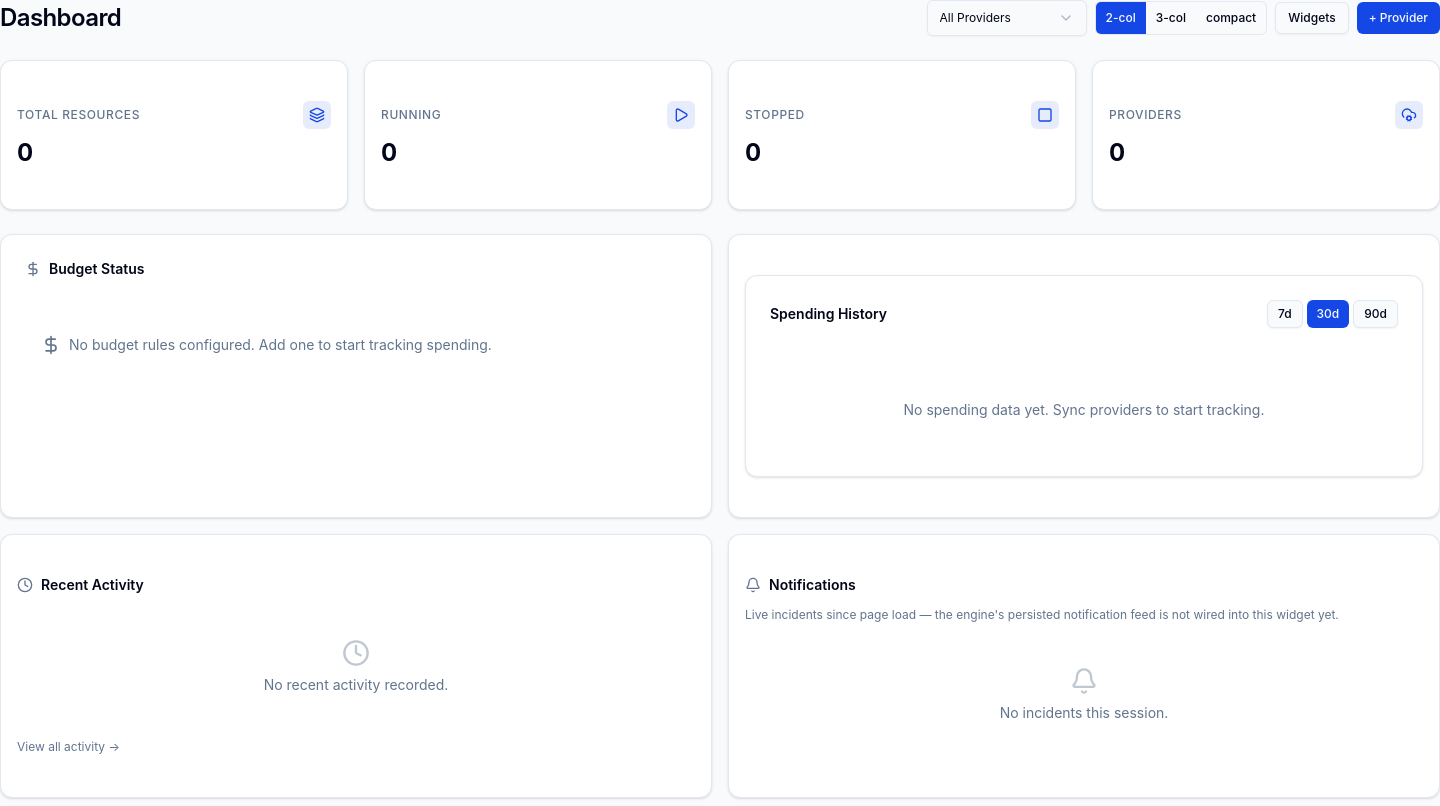
Test: DashboardPage › toggling a widget hides its card and saves preferences
Expected: the text "Budget Status" is shown, [25,260,144,277]
Click the button "Widgets": (1312, 18) [1275,2,1349,34]
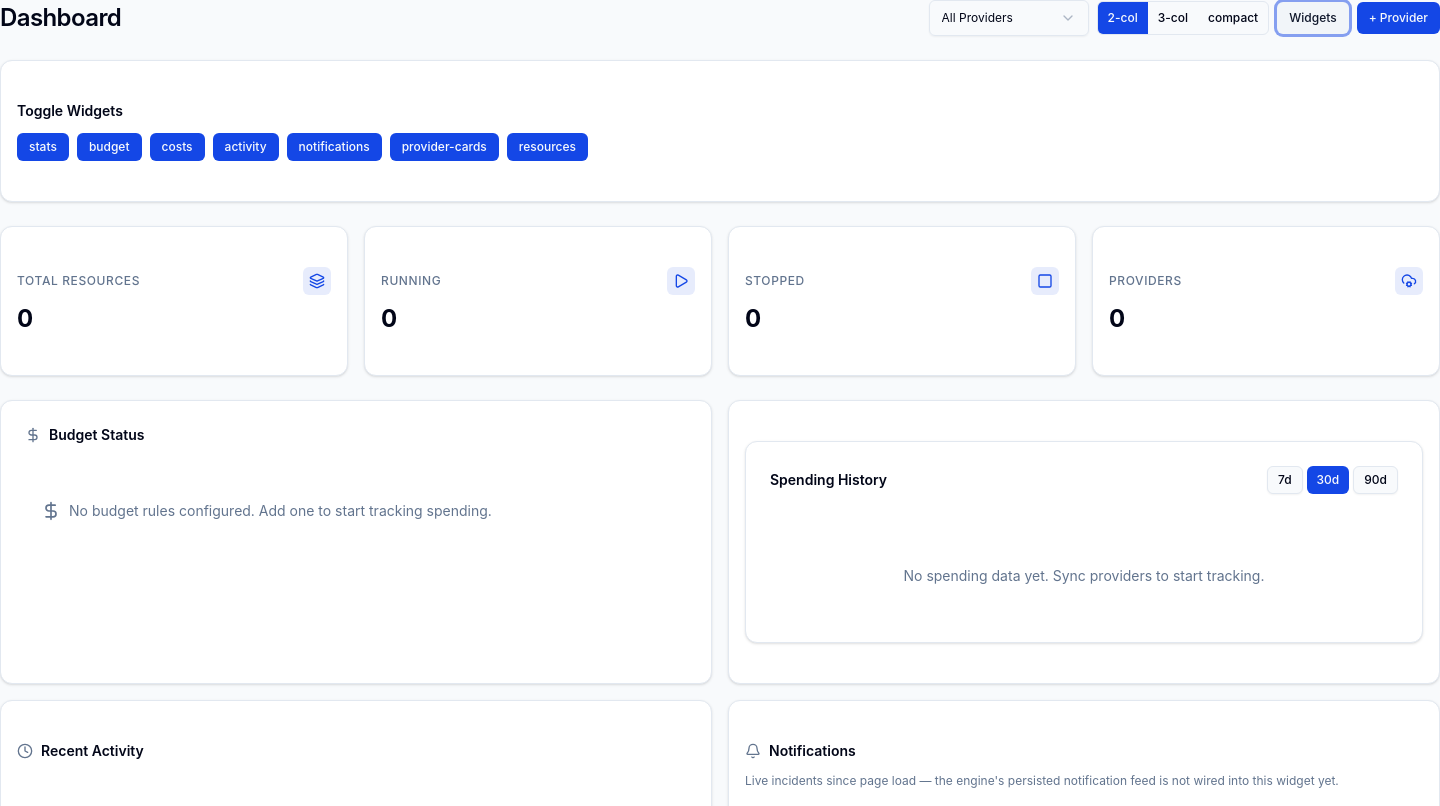
Click the button "budget": (109, 147) [77,133,142,161]
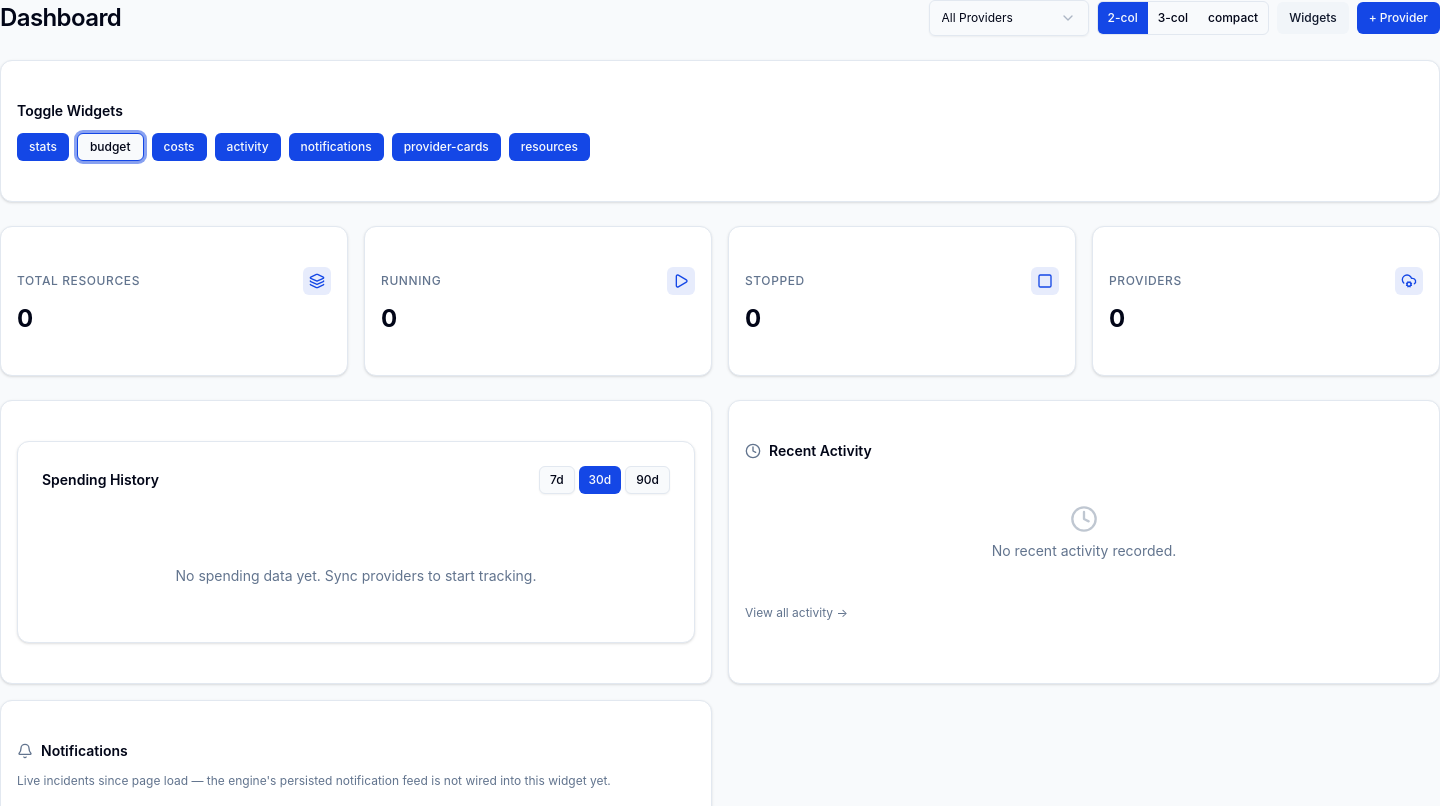
Now the text "Budget Status" is gone
